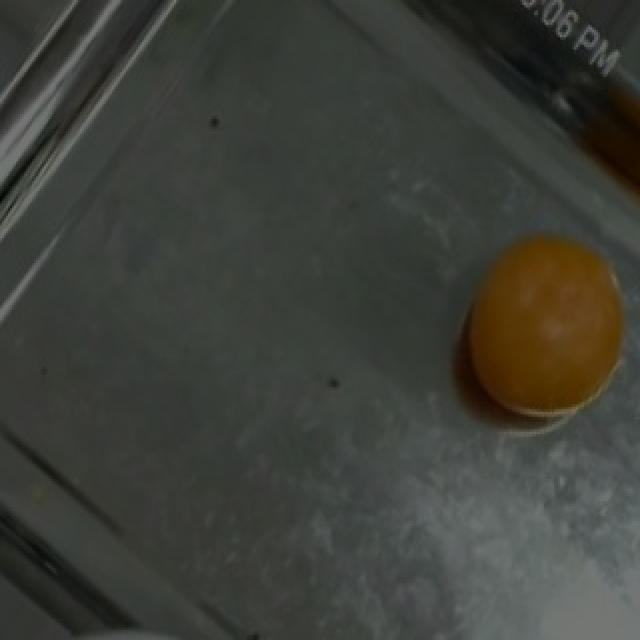Fruit: (440, 208, 636, 446)
